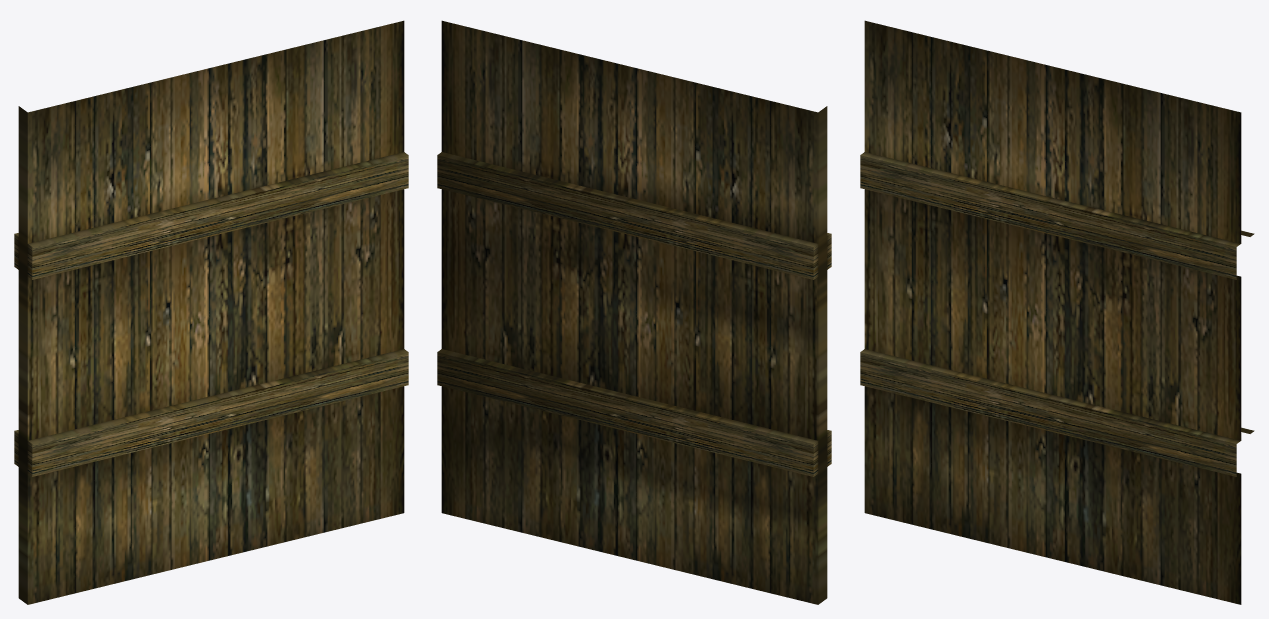
Rendered from M12_MainGate_Door_Left.glb.
The picture shows the model from 3 angles, left to right: view 1: azimuth 30°, elevation 25°; view 2: azimuth 150°, elevation 25°; view 3: azimuth 330°, elevation 25°; orthographic projection.
Visible parts, largest first — view 1: M12_MAINGATE_DOOR_LEFT; view 2: M12_MAINGATE_DOOR_LEFT; view 3: M12_MAINGATE_DOOR_LEFT.
Boxes of the visible parts, x1,y1,x2,y2 form: M12_MAINGATE_DOOR_LEFT: [14, 20, 408, 604]; M12_MAINGATE_DOOR_LEFT: [437, 20, 831, 604]; M12_MAINGATE_DOOR_LEFT: [860, 20, 1254, 604].
Size of the model in its own units: 6 by 7.5 by 0.5.
1 material, 1 textured.
